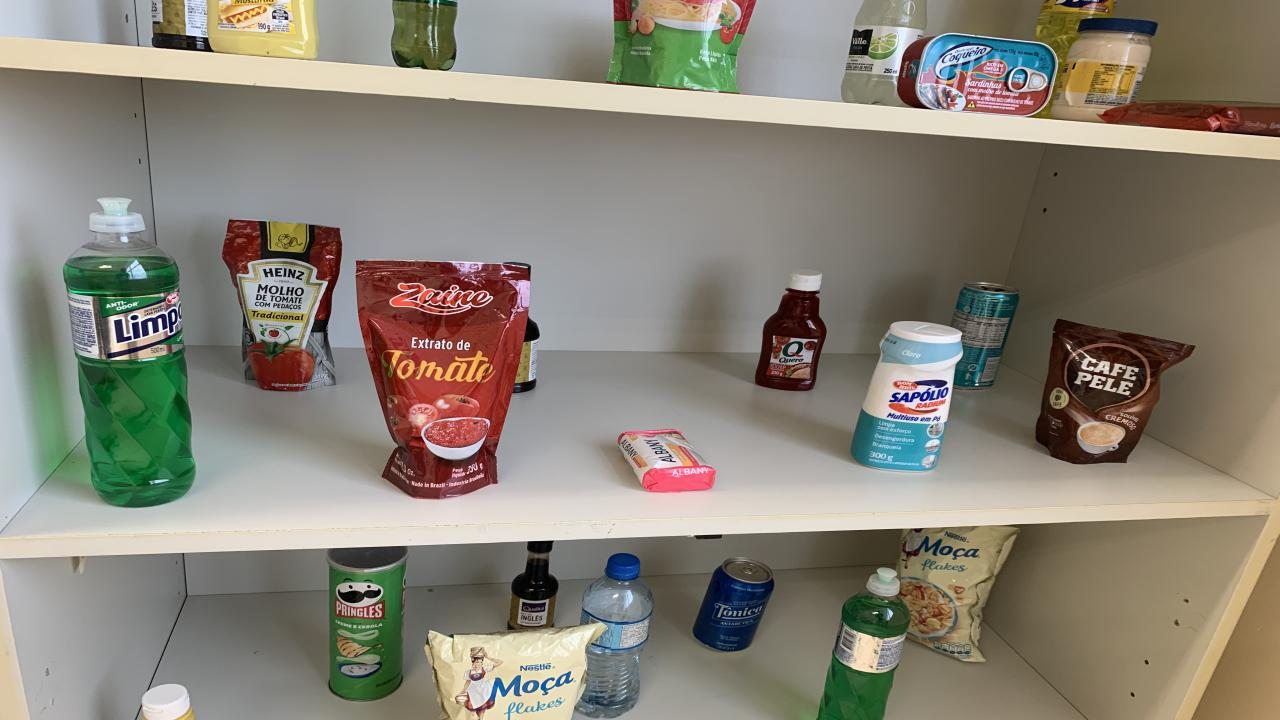Cleaner-Cleanup_Items: (850, 322, 962, 472)
Coffee-Pantry_Items: (1035, 321, 1195, 463)
Detergent-Cleanup_Items: (62, 199, 195, 506), (818, 568, 910, 720), (1035, 0, 1115, 73)
English_Sauce-Pantry_Items: (508, 542, 558, 630), (150, 0, 210, 51), (512, 319, 540, 394)
Flakes-Snacks: (425, 622, 602, 720), (898, 527, 1020, 662)
Guarana-Drinks: (390, 0, 458, 69)
Guava-Snacks: (1100, 101, 1280, 137)
Ketchup-Pantry_Items: (755, 270, 828, 390)
Mayonnaise-Pantry_Items: (1052, 17, 1158, 122)
Mustard-Pantry_Items: (208, 0, 318, 60), (142, 684, 190, 720)
Pringles-Snacks: (328, 548, 408, 701)
Soap-Cleanup_Items: (618, 429, 715, 491)
Soda-Drinks: (842, 0, 928, 107)
Tea-Drinks: (950, 283, 1020, 388)
Tomato_Sauce-Pantry_Items: (355, 261, 530, 499), (222, 219, 342, 390), (608, 0, 755, 94)
Tonic-Drinks: (692, 557, 775, 651)
Tuna_Can-Pantry_Items: (898, 34, 1058, 116)
Water_Bottle-Drinks: (578, 553, 652, 718)
